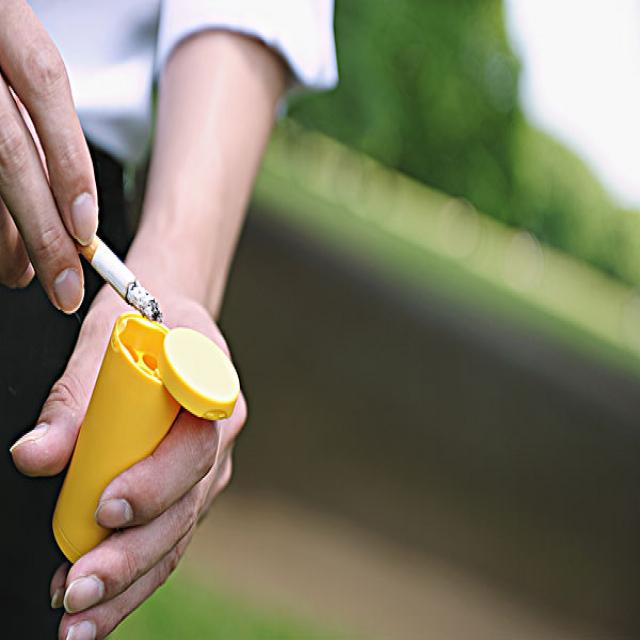smoking: (76, 228, 162, 320)
